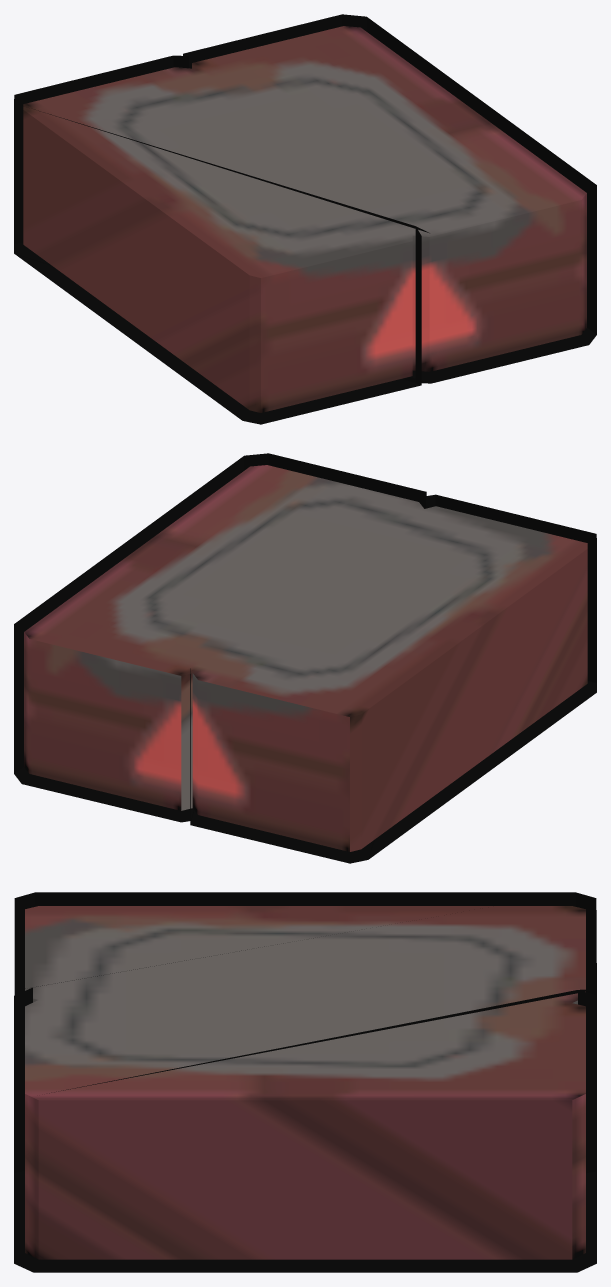
Rendered from Building_AncientMiningCharge_Things_Building_Ancient_MiningCharge_AncientMiningChargeD.glb.
3 renders of one model, top to bottom at view 1: azimuth 30°, elevation 25°; view 2: azimuth 150°, elevation 25°; view 3: azimuth 270°, elevation 25°, orthographic. The views are drawn at different scales.
Visible parts, largest first — view 1: Body, Outline; view 2: Body, Outline; view 3: Body, Outline.
Part boxes in pixels (left/top/right/bottom): Body: left=23, top=26, right=586, bottom=412; Outline: left=14, top=14, right=596, bottom=424; Body: left=24, top=465, right=587, bottom=851; Outline: left=14, top=453, right=596, bottom=863; Body: left=25, top=906, right=585, bottom=1259; Outline: left=14, top=892, right=596, bottom=1272.
Size of the model in its own units: 0.9826 by 0.4164 by 1.19.
2 materials, 1 textured.
